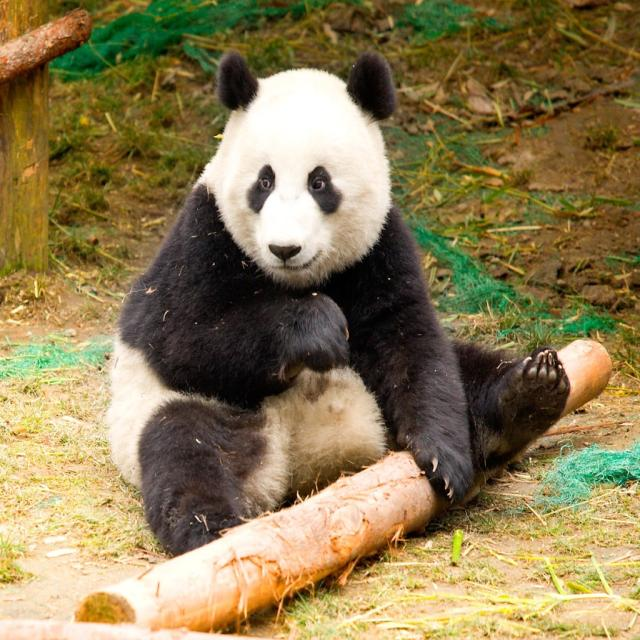panda: (98, 45, 570, 570)
